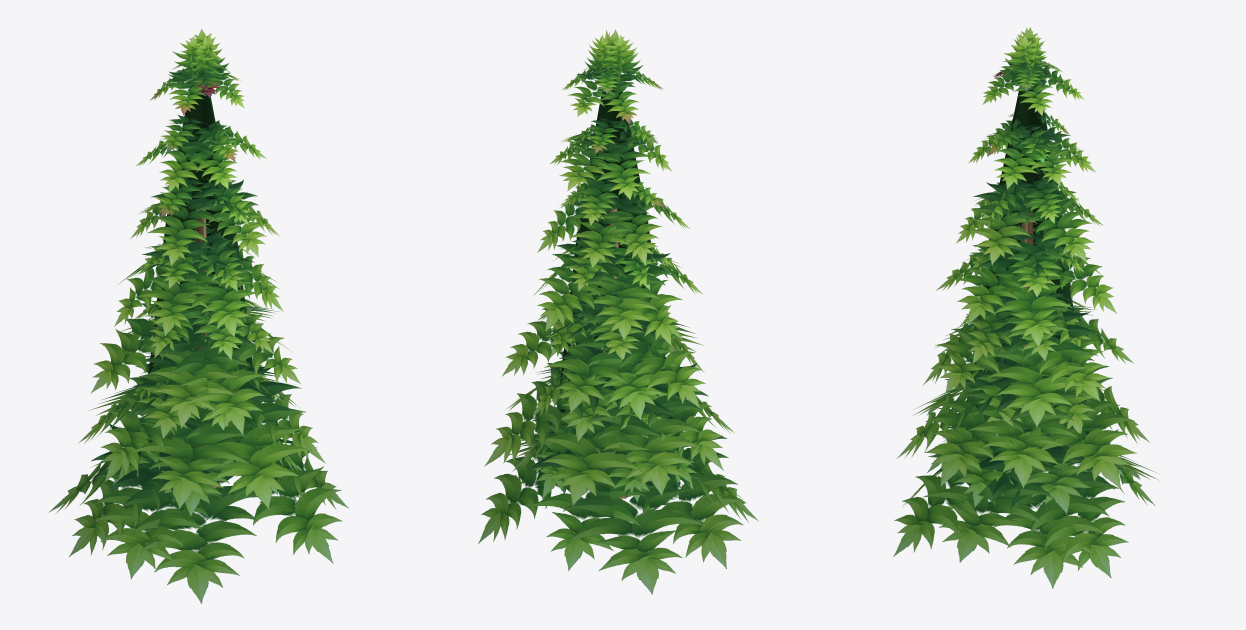
File: conifer5_b.glb
3 views of the same model, side by side, from view 1: azimuth 30°, elevation 25°; view 2: azimuth 150°, elevation 25°; view 3: azimuth 270°, elevation 25° (orthographic).
Parts seen in each view (by area): view 1: conifer; view 2: conifer; view 3: conifer.
Part boxes in pixels (x1=…): conifer: x1=48, y1=29, x2=348, y2=603; conifer: x1=478, y1=29, x2=758, y2=594; conifer: x1=893, y1=27, x2=1157, y2=588.
Bounding box in the file's own units: 5.91 × 8.33 × 5.86.
2 materials, 2 textured.
